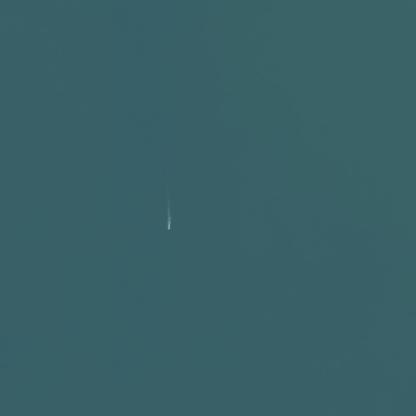ship: (160, 221, 176, 232)
